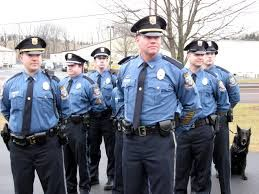gun: (119, 113, 134, 139), (55, 126, 71, 150), (1, 122, 12, 152), (77, 111, 92, 132)
uniform: (115, 56, 178, 189), (5, 70, 63, 187), (181, 68, 214, 186), (57, 73, 91, 184), (84, 70, 117, 178)
